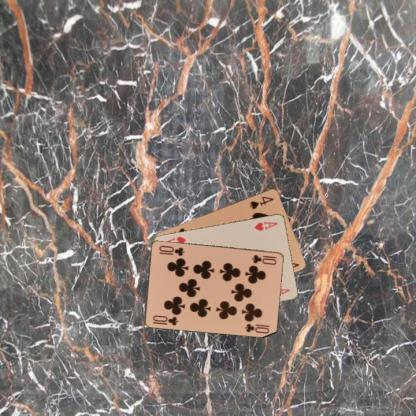10c: (150, 312, 180, 326), (250, 252, 278, 266)
4s: (247, 194, 275, 210)
Ah: (252, 218, 279, 232)
